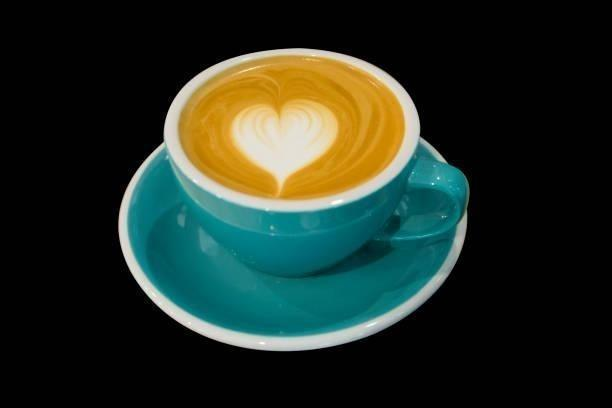cup-handle: (162, 46, 468, 278)
